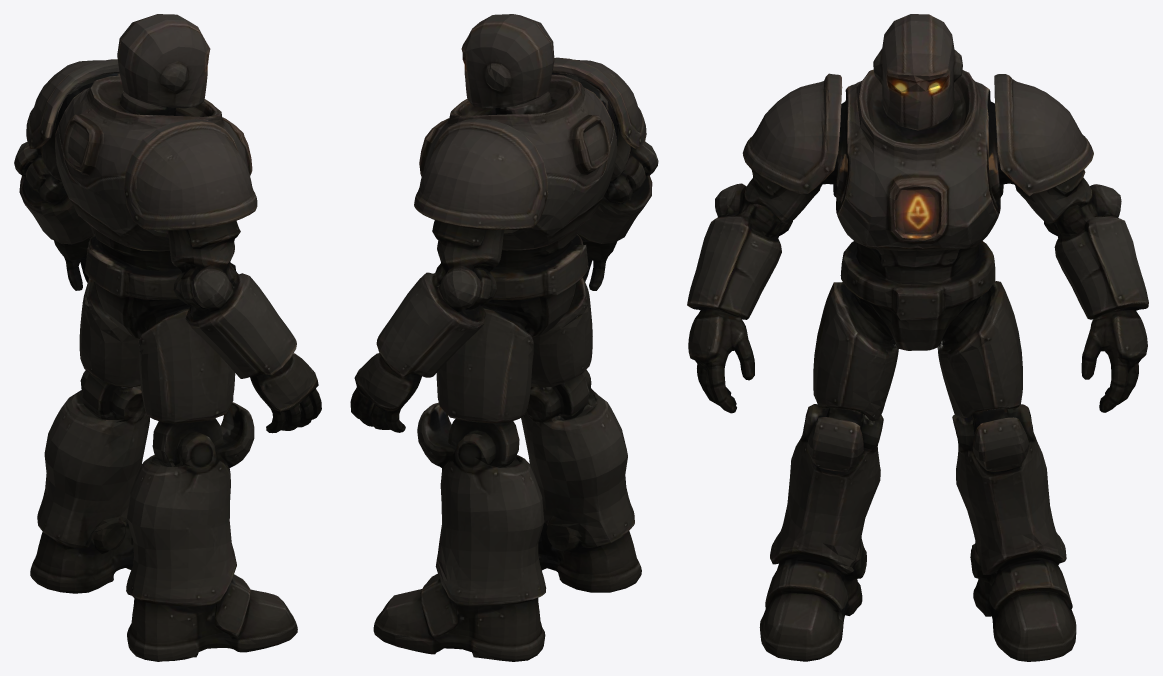
The model's file is robot.glb.
3 views of the same model, side by side, from view 1: azimuth 30°, elevation 25°; view 2: azimuth 150°, elevation 25°; view 3: azimuth 270°, elevation 25° (orthographic). The views are drawn at different scales.
Parts seen in each view (by area): view 1: tripo_node_bc8907d9-36f5-4ce6-b392-a9840b281e99; view 2: tripo_node_bc8907d9-36f5-4ce6-b392-a9840b281e99; view 3: tripo_node_bc8907d9-36f5-4ce6-b392-a9840b281e99.
Part boxes in pixels (x1,y1,x2,y2): tripo_node_bc8907d9-36f5-4ce6-b392-a9840b281e99: [14, 14, 321, 661]; tripo_node_bc8907d9-36f5-4ce6-b392-a9840b281e99: [350, 14, 658, 661]; tripo_node_bc8907d9-36f5-4ce6-b392-a9840b281e99: [687, 14, 1148, 661].
Size of the model in its own units: 0.3047 by 0.9986 by 0.6909.
1 material, 1 textured.
